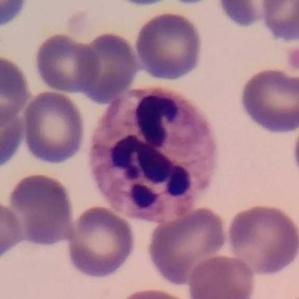Neutrophil: (81, 77, 227, 230)
RBC: (145, 205, 230, 287), (63, 204, 138, 280), (224, 201, 298, 278), (5, 170, 77, 248), (133, 10, 206, 83), (20, 89, 87, 167), (74, 29, 141, 104), (32, 31, 102, 95), (236, 66, 298, 135), (185, 252, 257, 299), (0, 52, 32, 128), (213, 0, 290, 31), (0, 97, 27, 172), (258, 0, 299, 44), (0, 196, 26, 265), (0, 0, 35, 33), (114, 286, 199, 299), (173, 0, 209, 8)
